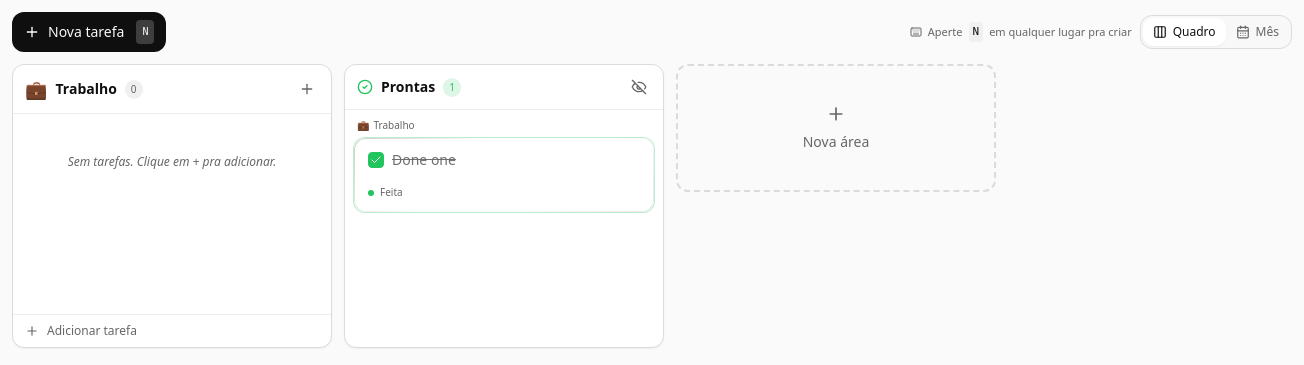
Test: KanbanBoard › hiding the 'Prontas' column persists and shows compact toggle
Click the button named "Ocultar coluna Prontas".
click(639, 87)  # box x1=627 y1=75 x2=651 y2=99
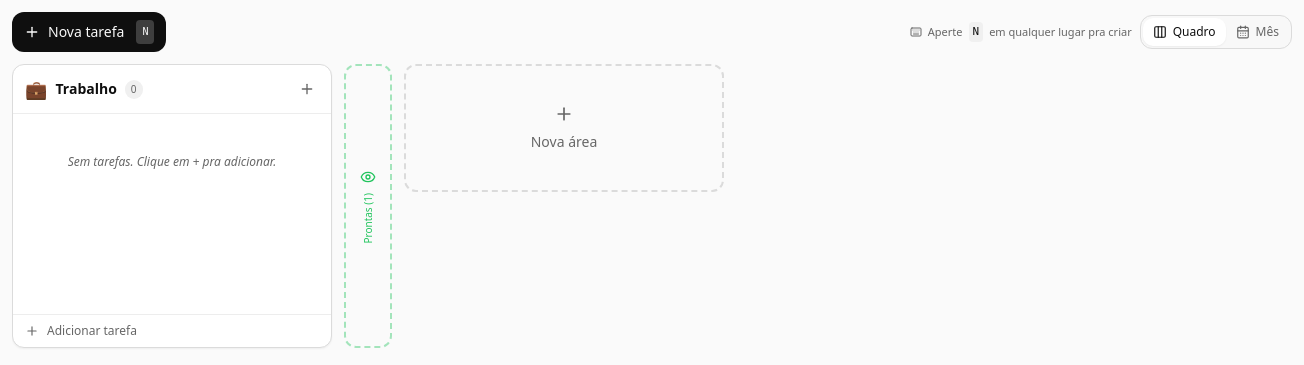
Now the button with aria-label "Mostrar coluna Prontas" is shown, box x1=344 y1=64 x2=392 y2=348
